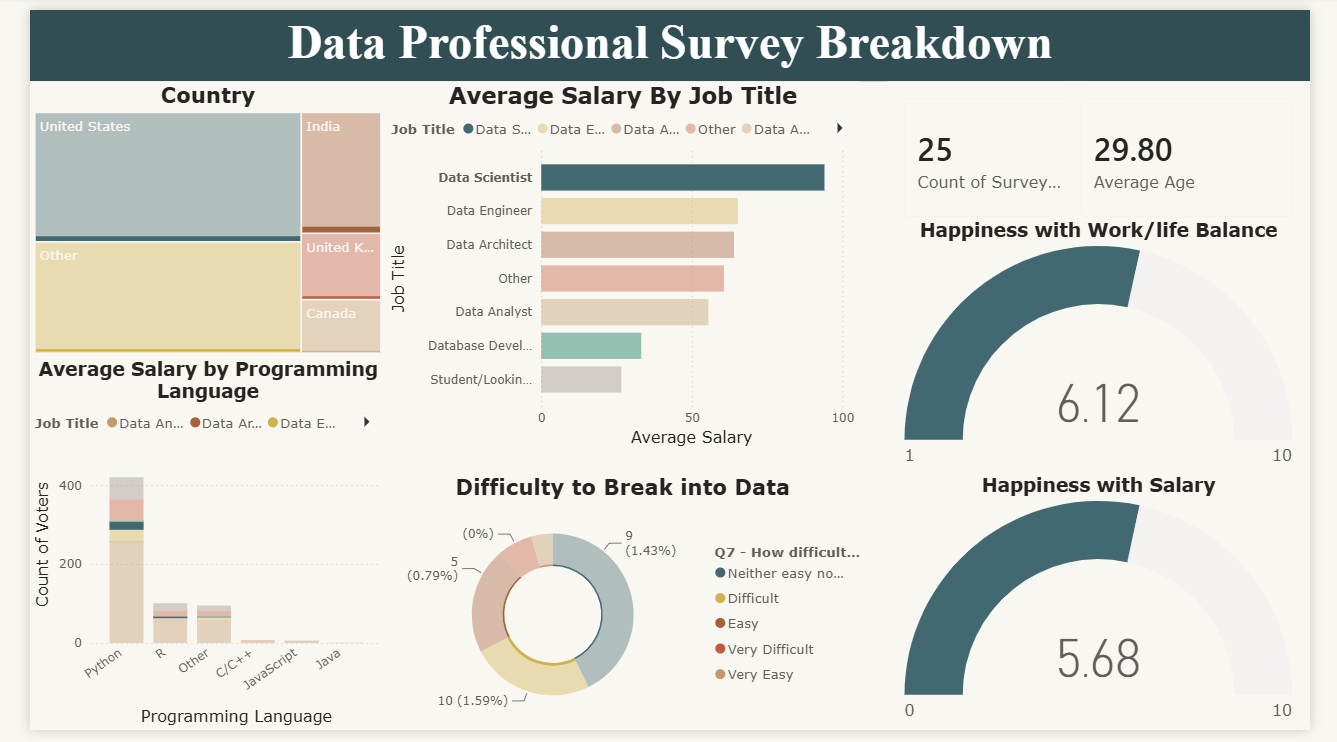

Layout of this report page (visuals, bound fields, positions):
{"tool":"powerbi","page":{"name":"Survey Dashboard","canvas":[1280,720],"ordinal":0},"visuals":[{"type":"textbox","box":[0,0,1280.3,71.4],"z":0},{"type":"cardVisual","fields":{"Data":["CountNonNull(Data Professional Survey.Unique ID)"]},"box":[858,70.6,202.9,153.3],"z":1000},{"type":"cardVisual","fields":{"Data":["Avg(Data Professional Survey.Q10 - Current Age)"]},"box":[1033.9,71.2,246.1,153.2],"z":2000},{"type":"barChart","title":"Average Salary By Job Title","fields":{"Category":["Data Professional Survey.Q1 - Which Title Best Fits your Current Role?.1"],"Y":["Avg(Data Professional Survey.Average Salary)"],"Series":["Data Professional Survey.Q1 - Which Title Best Fits your Current Role?.1"]},"box":[356.1,70.6,473.4,369.7],"z":3000},{"type":"columnChart","title":"Average Salary by  Programming Language","fields":{"Category":["Data Professional Survey.Q5 - Favorite Programming Language.1"],"Y":["CountNonNull(Data Professional Survey.Unique ID)"],"Series":["Data Professional Survey.Q1 - Which Title Best Fits your Current Role?.1"]},"box":[0,347.1,356.1,372.7],"z":4000},{"type":"treemap","title":"Country","fields":{"Group":["Data Professional Survey.Q11 - Which Country do you live in?.1"],"Values":["CountNonNull(Data Professional Survey.Q11 - Which Country do you live in?.1)"]},"box":[0,70.6,356.1,276.5],"z":5000},{"type":"gauge","title":"Happiness with Work/life Balance","fields":{"Y":["Avg(Data Professional Survey.Q6 - How Happy are you in your Current Position with the following? (Work/Life Balance))"],"MinValue":["Min(Data Professional Survey.Q6 - How Happy are you in your Current Position with the following? (Work/Life Balance))"],"MaxValue":["Max(Data Professional Survey.Q6 - How Happy are you in your Current Position with the following? (Work/Life Balance))1"]},"box":[858,208.9,422.3,255.5],"z":6000},{"type":"gauge","title":"Happiness with Salary","fields":{"Y":["Avg(Data Professional Survey.Q6 - How Happy are you in your Current Position with the following? (Salary))"],"MinValue":["Min(Data Professional Survey.Q6 - How Happy are you in your Current Position with the following? (Salary))"],"MaxValue":["Max(Data Professional Survey.Q6 - How Happy are you in your Current Position with the following? (Salary))"]},"box":[858,464.3,422.3,255.5],"z":7000},{"type":"donutChart","title":"Difficulty to Break into Data","fields":{"Category":["Data Professional Survey.Q7 - How difficult was it for you to break into Data?"],"Y":["CountNonNull(Data Professional Survey.Q7 - How difficult was it for you to break into Data?)"]},"box":[356.1,464.3,473.4,255.5],"z":8000}]}

Visuals, with their boxes in screenshot pixels (x1, y1, x2, y2), scaled from the page's 1280x720 canvas onto the 1337x742 screenshot:
textbox: select_region(0, 0, 1336, 74)
cardVisual - CountNonNull(Data Professional Survey.Unique ID): select_region(896, 73, 1108, 231)
cardVisual - Avg(Data Professional Survey.Q10 - Current Age): select_region(1080, 73, 1336, 231)
"Average Salary By Job Title" barChart: select_region(372, 73, 866, 454)
"Average Salary by  Programming Language" columnChart: select_region(0, 358, 372, 741)
"Country" treemap: select_region(0, 73, 372, 358)
"Happiness with Work/life Balance" gauge: select_region(896, 215, 1336, 479)
"Happiness with Salary" gauge: select_region(896, 478, 1336, 741)
"Difficulty to Break into Data" donutChart: select_region(372, 478, 866, 741)
